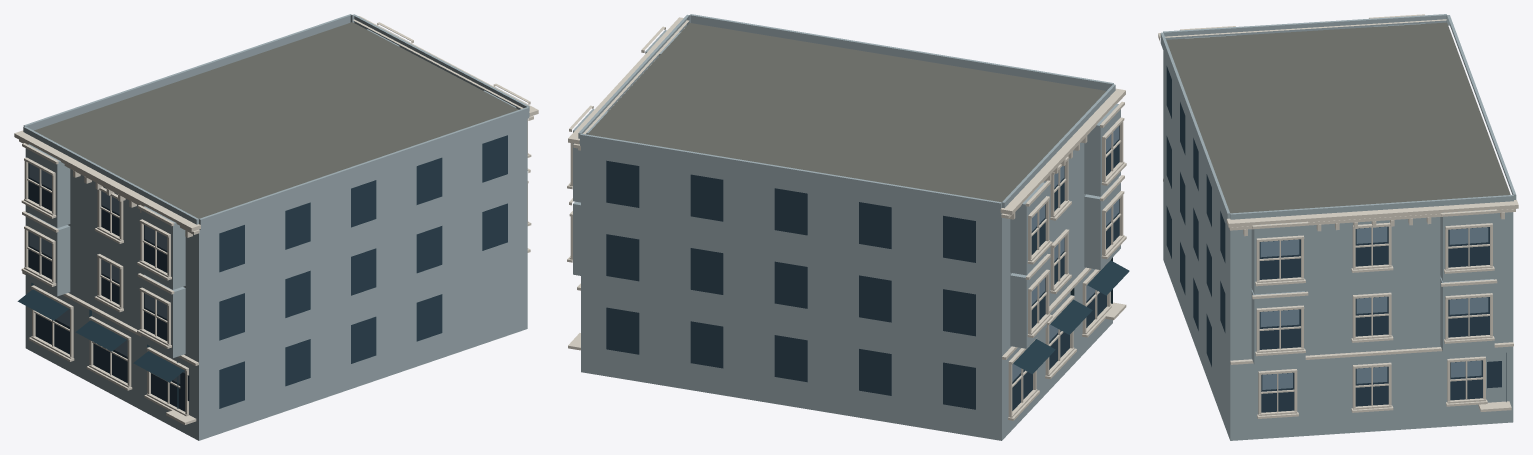
3 views of the same model, side by side, from view 1: azimuth 30°, elevation 25°; view 2: azimuth 150°, elevation 25°; view 3: azimuth 270°, elevation 25° (orthographic). The views are drawn at different scales.
Parts seen in each view (by area): view 1: Footprint 0 / surface 2, Footprint 0 / surface 1, Inset glazing, Facade bay volumes, Cornices and window frames, Storefronts and doors, Sky reflection panels; view 2: Footprint 0 / surface 2, Footprint 0 / surface 1, Inset glazing, Facade bay volumes, Cornices and window frames, Storefronts and doors, Sky reflection panels; view 3: Footprint 0 / surface 1, Footprint 0 / surface 2, Cornices and window frames, Facade bay volumes, Inset glazing, Sky reflection panels.
Boxes of the visible parts, <box> form: Footprint 0 / surface 2: <box>25,118,527,440</box>; Footprint 0 / surface 1: <box>34,22,518,218</box>; Inset glazing: <box>28,135,507,411</box>; Facade bay volumes: <box>23,14,529,357</box>; Cornices and window frames: <box>14,16,538,424</box>; Storefronts and doors: <box>17,282,184,408</box>; Sky reflection panels: <box>29,163,185,383</box>; Footprint 0 / surface 2: <box>581,142,1112,440</box>; Footprint 0 / surface 1: <box>587,23,1106,202</box>; Inset glazing: <box>606,125,1119,410</box>; Facade bay volumes: <box>573,14,1120,348</box>; Cornices and window frames: <box>567,17,1126,420</box>; Storefronts and doors: <box>1013,257,1129,374</box>; Sky reflection panels: <box>1012,126,1118,381</box>; Footprint 0 / surface 1: <box>1166,22,1510,213</box>; Footprint 0 / surface 2: <box>1163,51,1513,440</box>; Cornices and window frames: <box>1158,14,1518,418</box>; Facade bay volumes: <box>1160,14,1516,364</box>; Inset glazing: <box>1166,66,1501,412</box>; Sky reflection panels: <box>1260,226,1488,389</box>.
Bounding box in the file's own units: 21.97 × 10.82 × 15.53.
